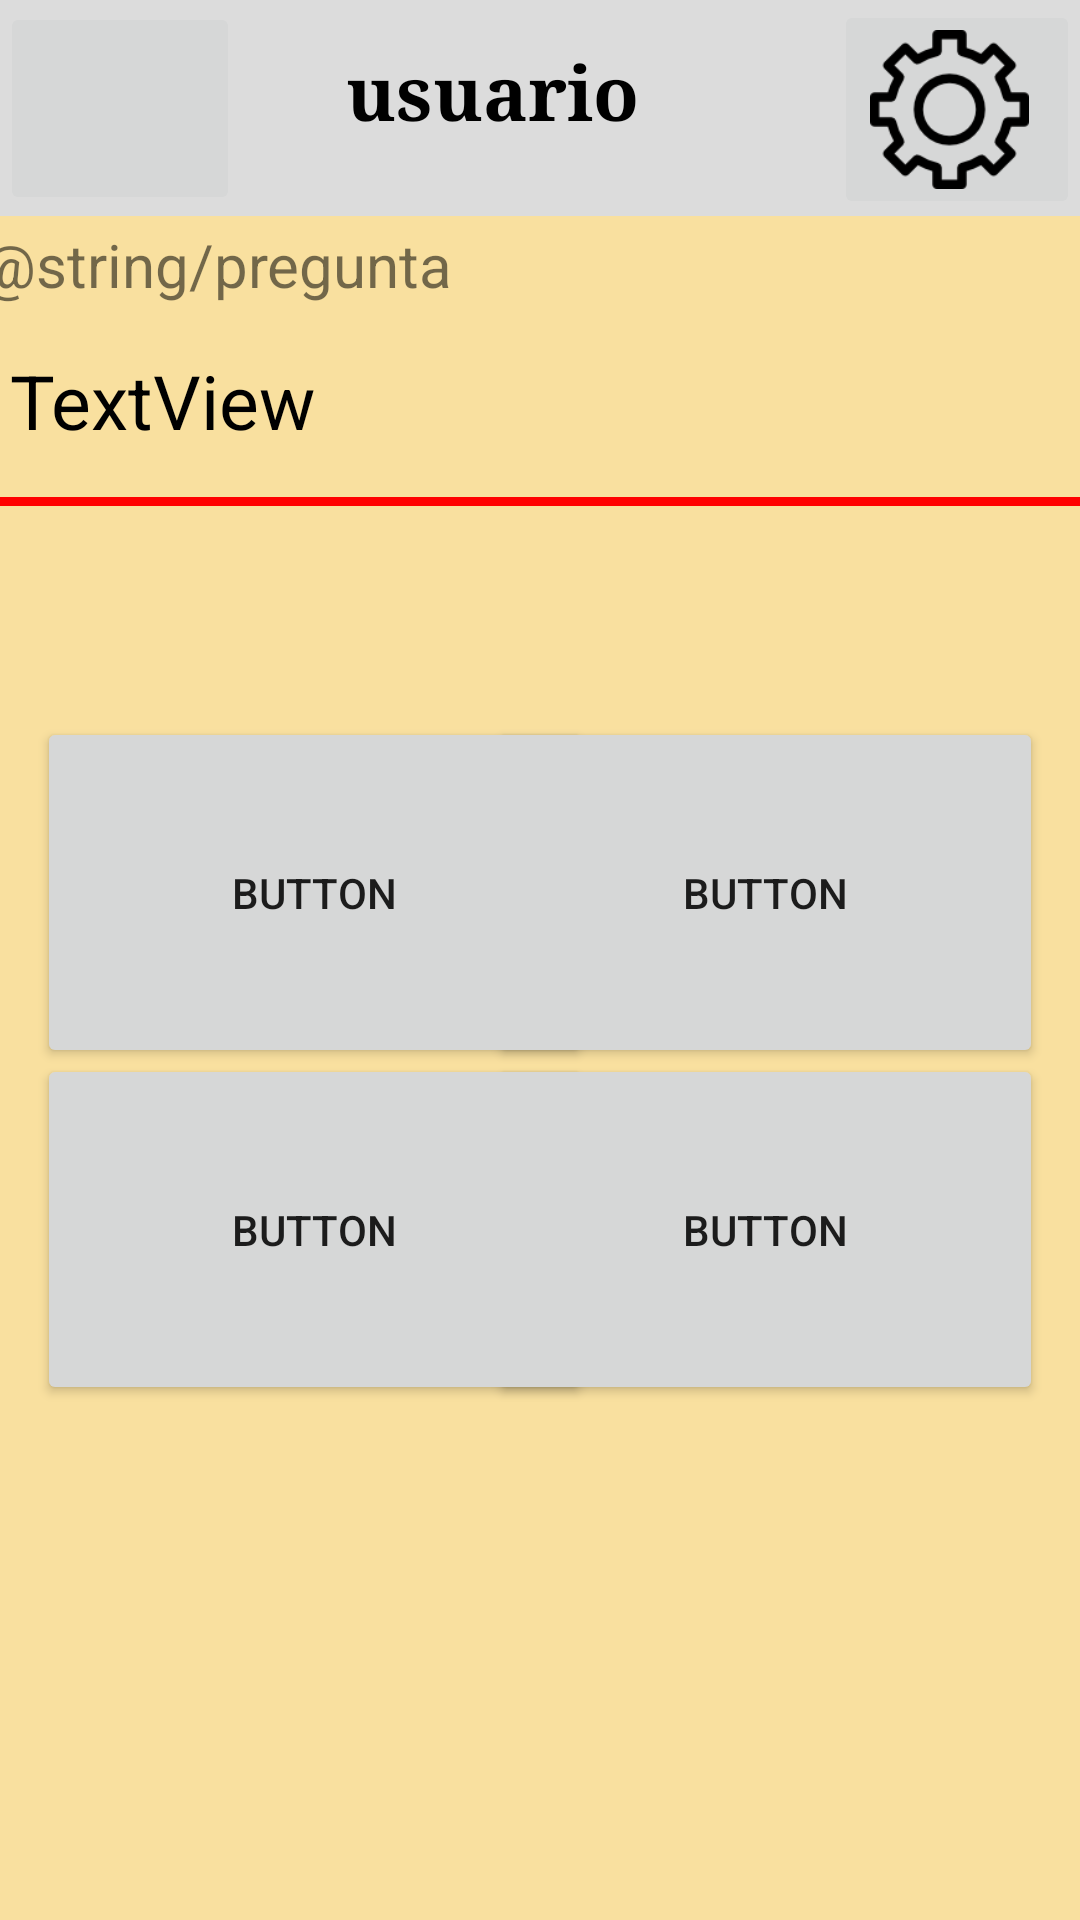

Point at icon controls on the screen. Image size 1080*1920, points as (x,y).
engranaje: (957,109)
